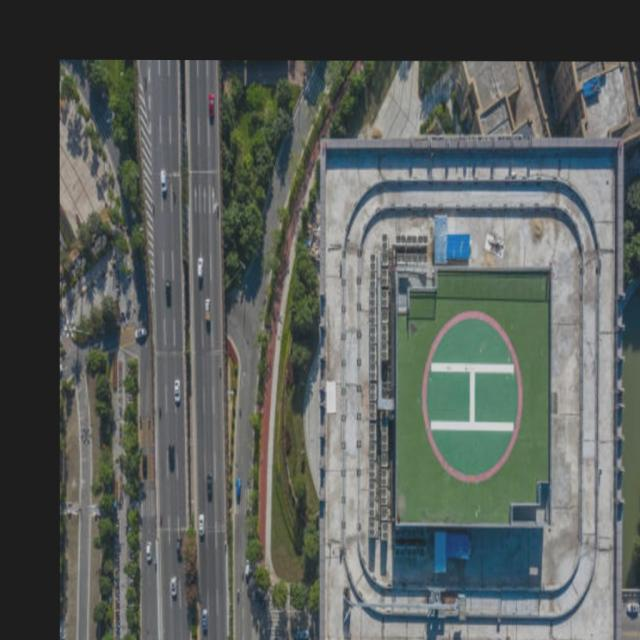helipad: (417, 304, 528, 487)
